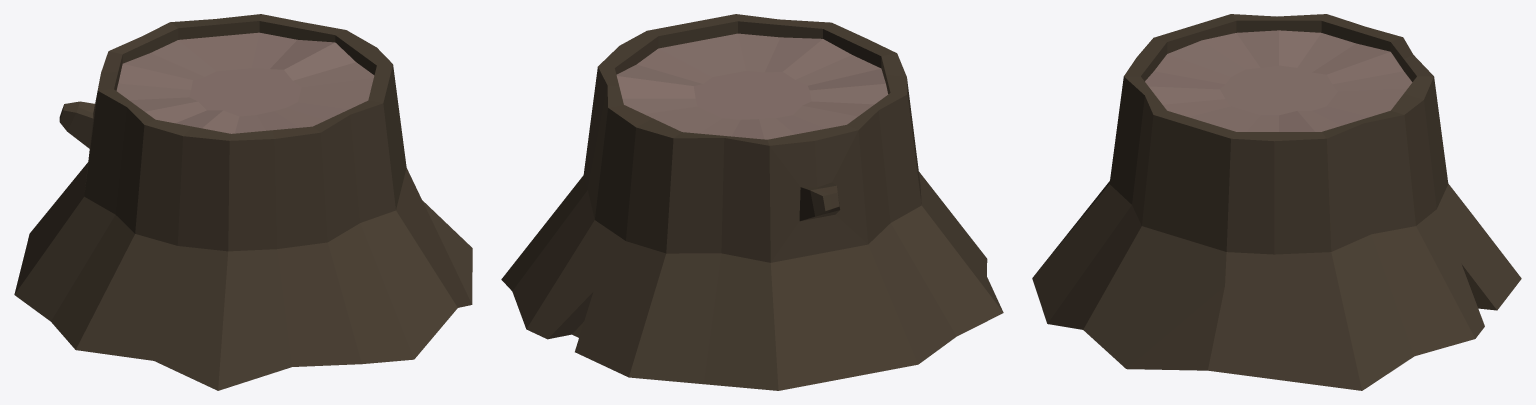
Rendered from log.fbx.
The picture shows the model from 3 angles, left to right: view 1: azimuth 30°, elevation 25°; view 2: azimuth 150°, elevation 25°; view 3: azimuth 270°, elevation 25°; orthographic projection. The views are drawn at different scales.
Parts seen in each view (by area): view 1: log_1; view 2: log_1; view 3: log_1.
Part boxes in pixels (x1,y1,x2,y2): log_1: [14, 14, 472, 390]; log_1: [501, 14, 1003, 390]; log_1: [1032, 14, 1521, 390].
Bounding box in the file's own units: 129 × 65.84 × 132.
